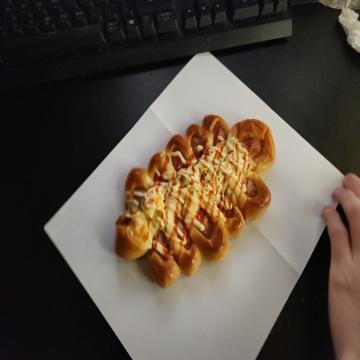pizza_bread: (115, 115, 277, 287)
